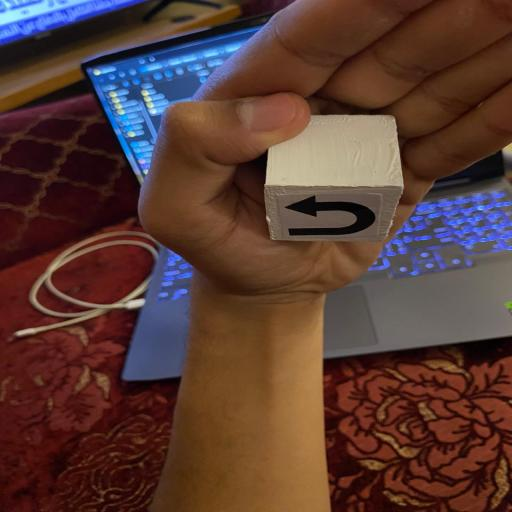Undo: (256, 112, 406, 243)
